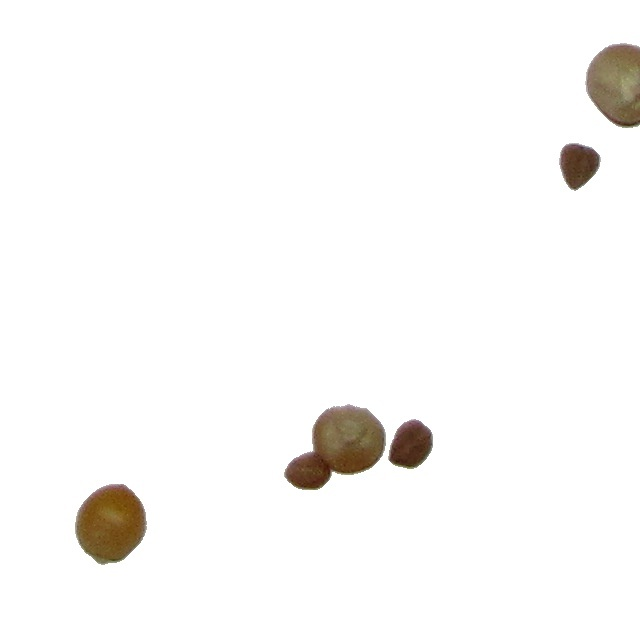buckwheat: (387, 418, 434, 470), (558, 145, 602, 195)
mais: (74, 483, 148, 566), (312, 403, 387, 473), (584, 42, 640, 129)
